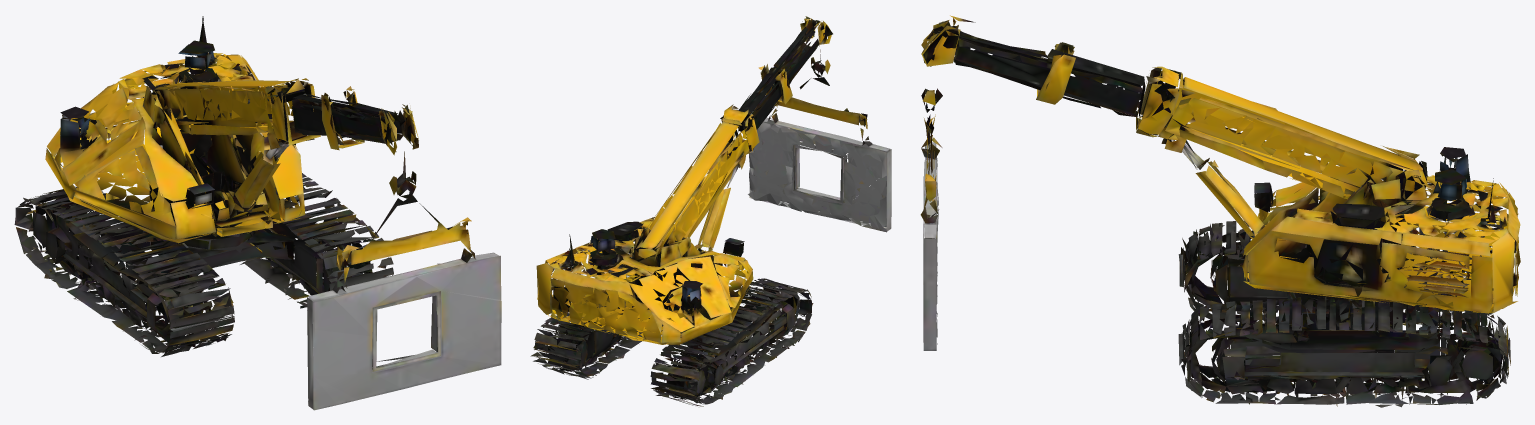
The model's file is crane-lite.glb.
The picture shows the model from 3 angles, left to right: view 1: azimuth 30°, elevation 25°; view 2: azimuth 150°, elevation 25°; view 3: azimuth 270°, elevation 25°; orthographic projection. The views are drawn at different scales.
Visible parts, largest first — view 1: geometry_0; view 2: geometry_0; view 3: geometry_0.
Part boxes in pixels (<box>): geometry_0: <box>14,16,501,410</box>; geometry_0: <box>530,16,891,406</box>; geometry_0: <box>920,15,1520,407</box>.
Bounding box in the file's own units: 0.4588 × 0.6224 × 1.
Materials: 1 (1 with a texture image).
